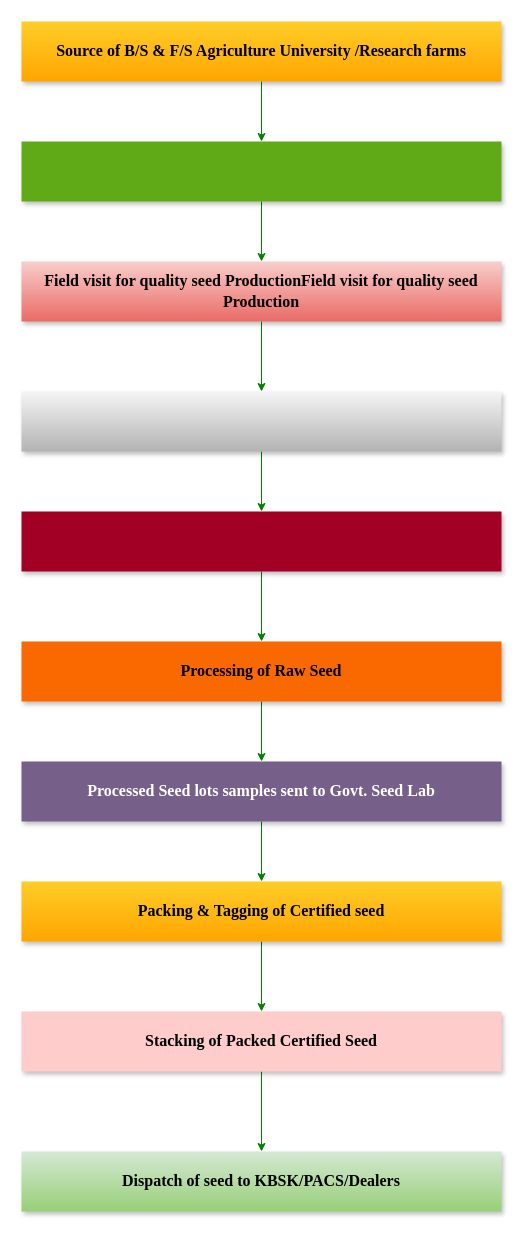
Image size: 524x1235. Some labels were removed from this diagram. The shapes that lost their labels are listed below. From the top down, each one's centre as x and y in pixels, then its label:
pixel 262 172: Selection of Seed Growers
pixel 262 422: Raw Seed Intake
pixel 262 542: Before processing Raw seed samples sent to KRIBHCO seed Lab Noida
